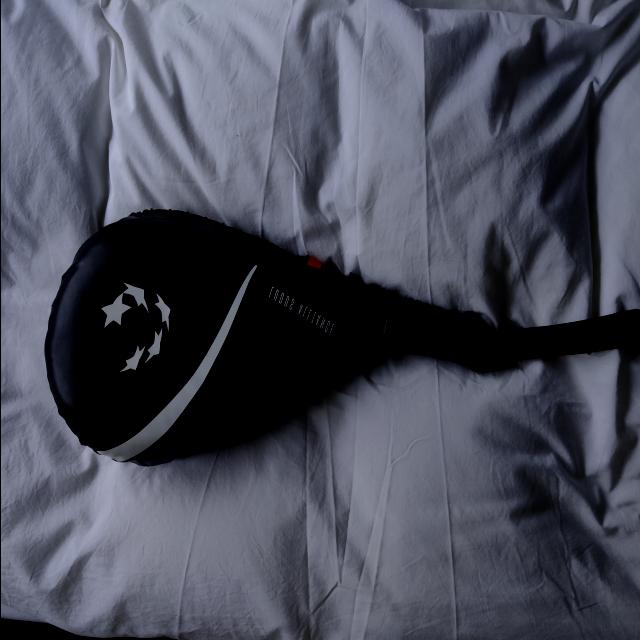paddle: (38, 201, 496, 471)
